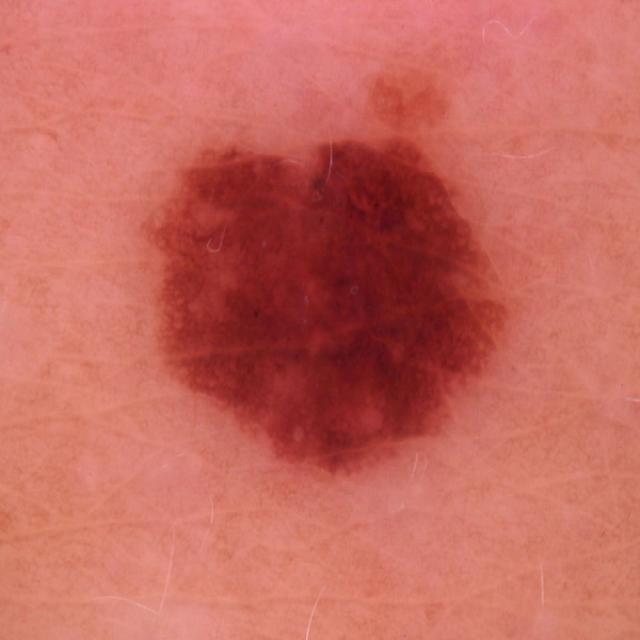NV: (143, 132, 512, 481)
